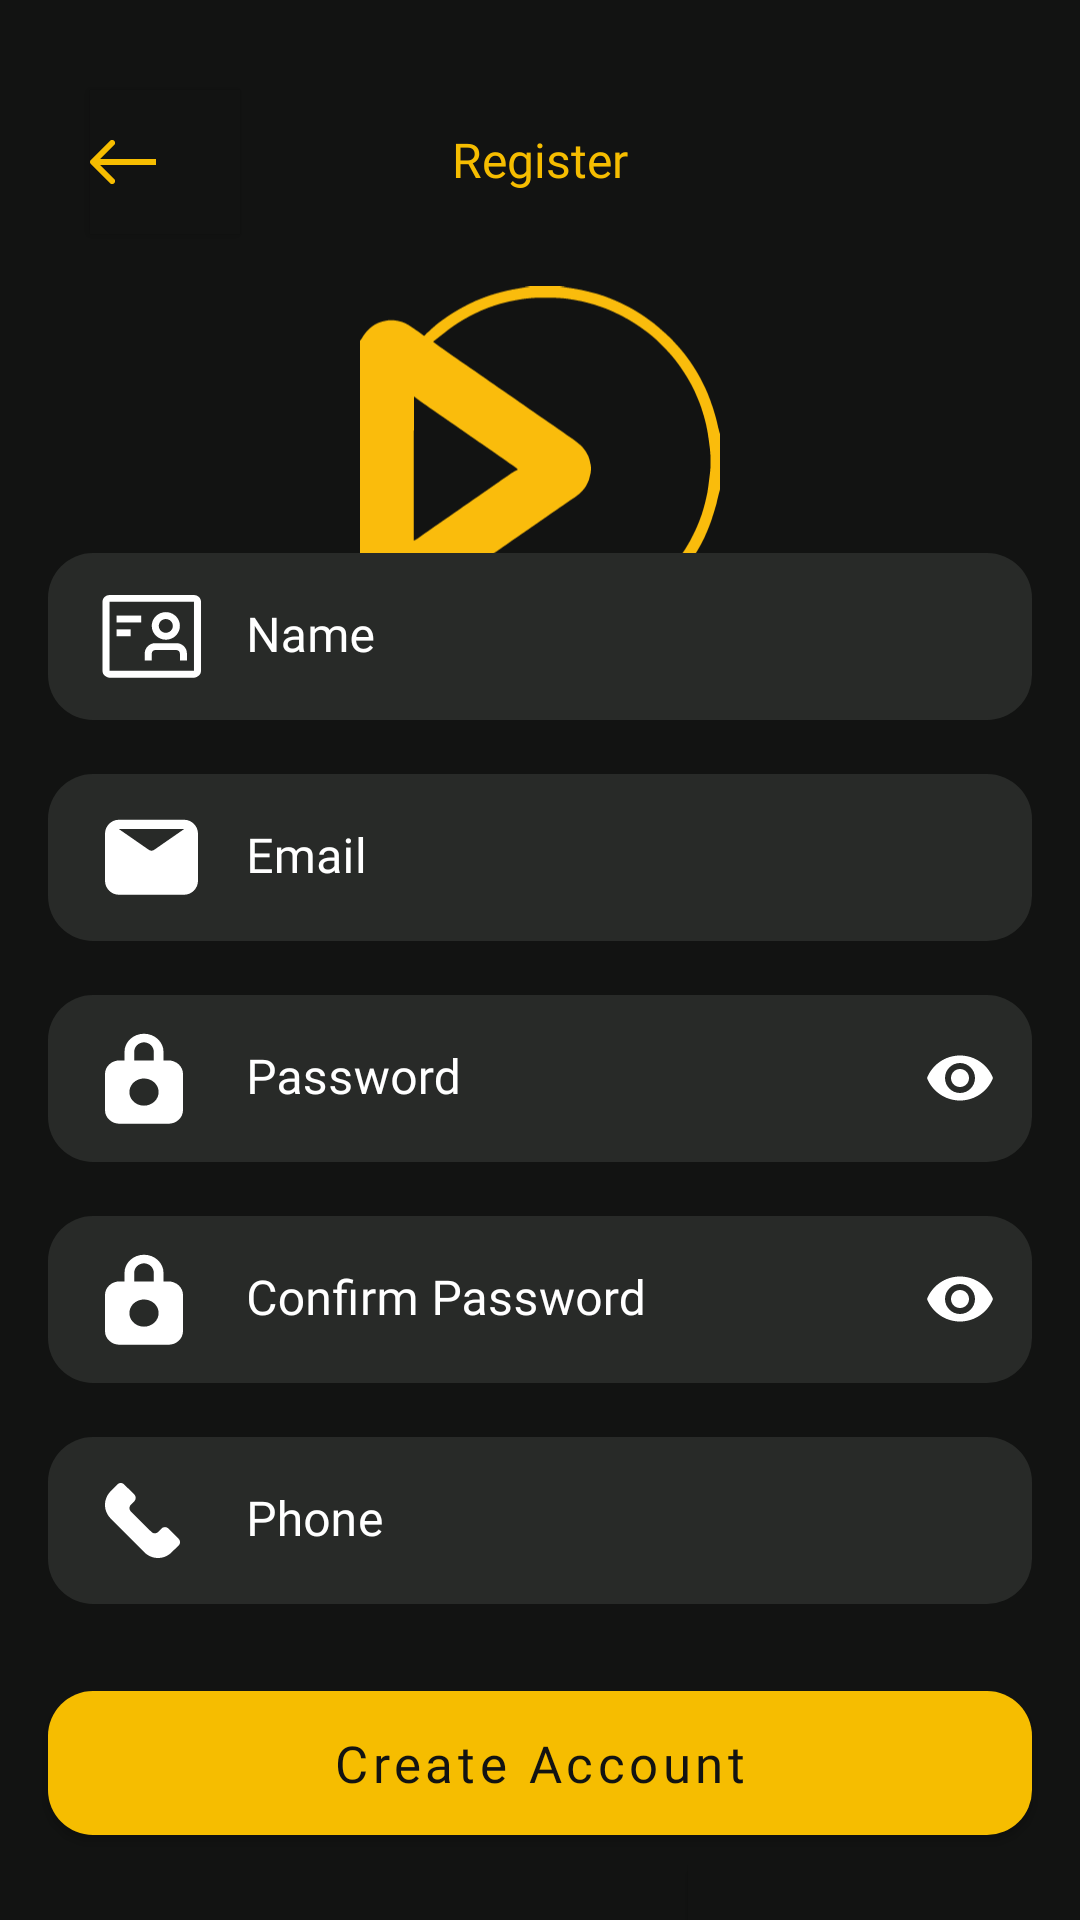

Where to tap for icons on this 1080w x 1920h app screen, as point (x, y):
back: point (123, 162)
